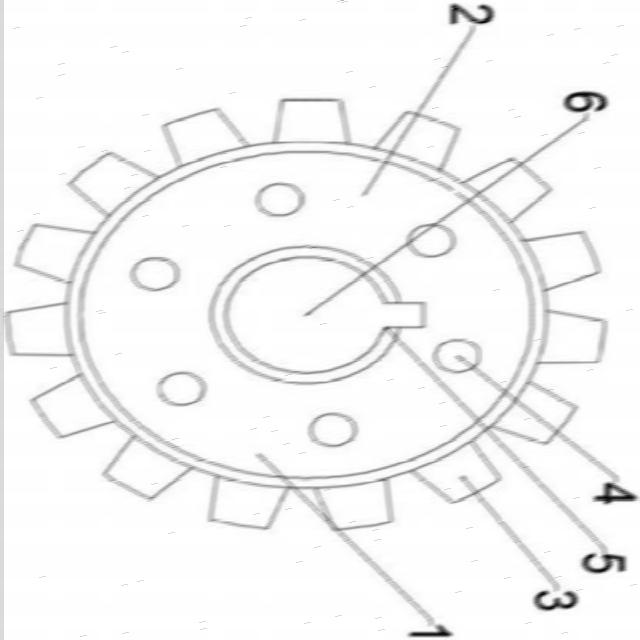Gear: (1, 93, 610, 535)
